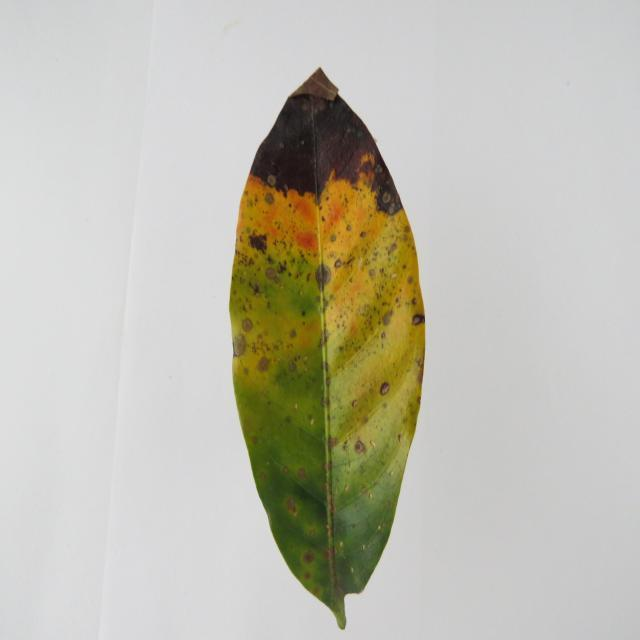DeficienciaNutricional-Fosforo: (230, 68, 425, 628)
